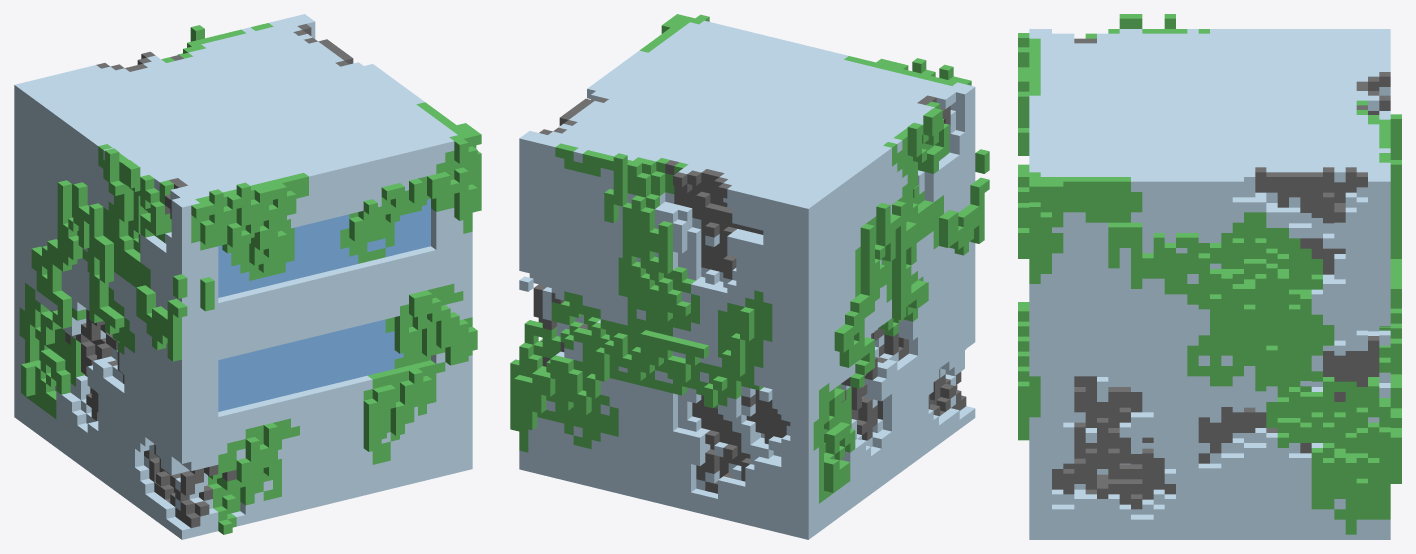
The model's file is billding5.obj.
The picture shows the model from 3 angles, left to right: view 1: azimuth 30°, elevation 25°; view 2: azimuth 150°, elevation 25°; view 3: azimuth 270°, elevation 25°; orthographic projection. The views are drawn at different scales.
Bounding box in the file's own units: 3.4 × 3.6 × 3.4.
Materials: 1 (1 with a texture image).
